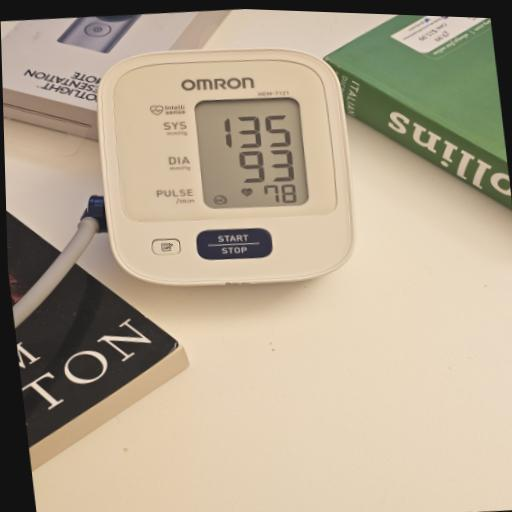lcd display: (191, 91, 312, 215)
